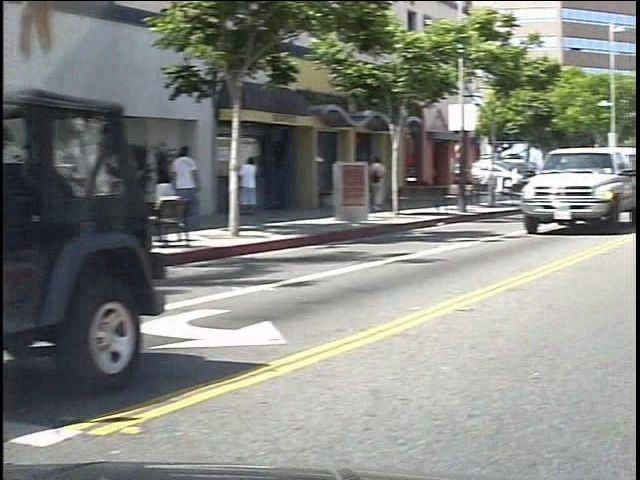person: (184, 143, 224, 235), (254, 144, 278, 227), (164, 147, 188, 200), (384, 154, 404, 215)
